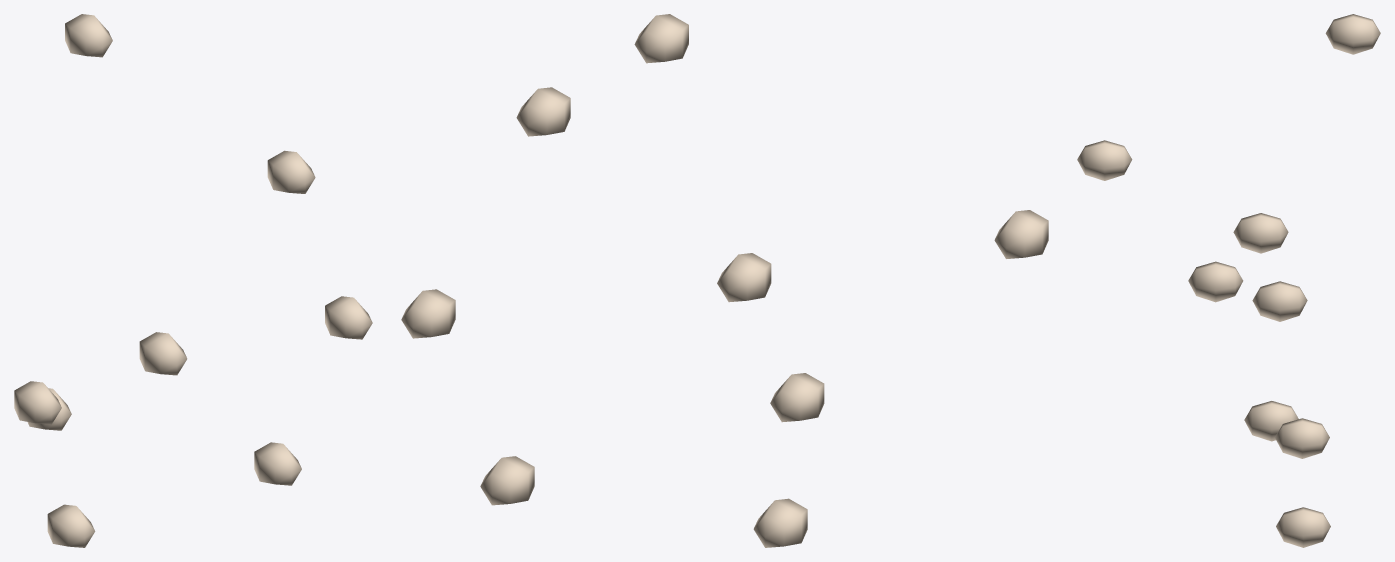
Rendered from shotgun_pellets.fbx.
3 renders of one model, left to right at view 1: azimuth 30°, elevation 25°; view 2: azimuth 150°, elevation 25°; view 3: azimuth 270°, elevation 25°, orthographic. The views are drawn at different scales.
Parts seen in each view (by area): view 1: pSphere21, pSphere19, pSphere17, pSphere23, pSphere24, pSphere25, pSphere22, pSphere18; view 2: pSphere21, pSphere23, pSphere24, pSphere18, pSphere19, pSphere17, pSphere22, pSphere25; view 3: pSphere19, pSphere21, pSphere24, pSphere18, pSphere25, pSphere22, pSphere23, pSphere17.
Boxes of the visible parts, x1,y1,x2,y2 form: pSphere21: (139,332,187,375); pSphere19: (267,150,315,193); pSphere17: (47,504,95,547); pSphere23: (254,442,301,485); pSphere24: (325,296,372,339); pSphere25: (65,14,112,57); pSphere22: (14,381,61,424); pSphere18: (27,388,71,430); pSphere21: (717,253,771,302); pSphere23: (480,456,534,505); pSphere24: (401,289,455,338); pSphere18: (770,373,824,422); pSphere19: (516,87,570,136); pSphere17: (753,498,807,547); pSphere22: (994,210,1048,258); pSphere25: (634,14,688,63); pSphere19: (1233,213,1288,253); pSphere21: (1188,261,1243,302); pSphere24: (1275,418,1329,458); pSphere18: (1252,281,1307,321); pSphere25: (1325,14,1380,54); pSphere22: (1077,140,1132,180); pSphere23: (1276,507,1330,547); pSphere17: (1244,401,1298,441).
Bounding box in the file's own units: 18.52 × 19.01 × 11.47.
